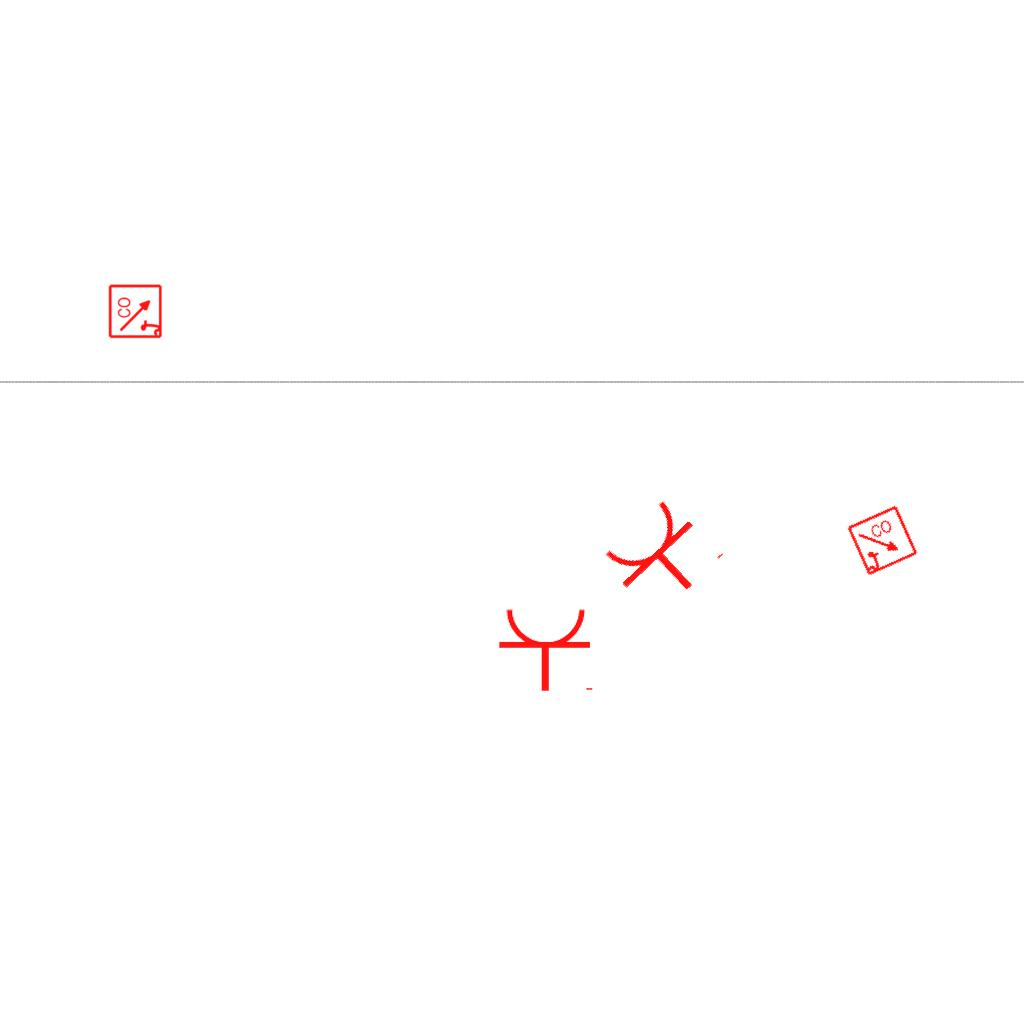ROA_Rauchmelder_optisch_mit_Signalgeber_(Sockelsirene): (846, 504, 920, 578), (108, 283, 164, 339)
Schukosteckdose_einfach: (596, 490, 729, 622), (497, 606, 597, 693)
